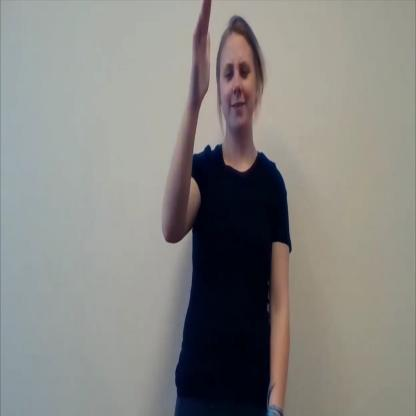Hello: (156, 0, 288, 193)
